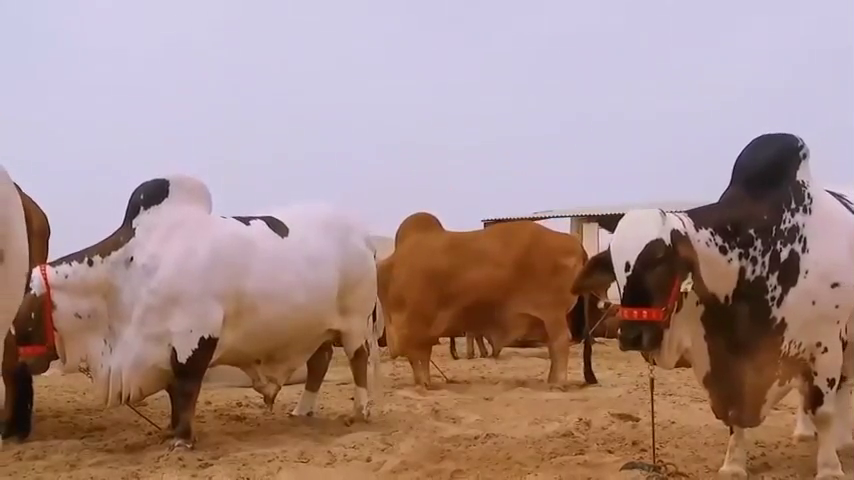bo: (568, 121, 854, 479), (21, 171, 381, 441), (371, 203, 600, 397)
